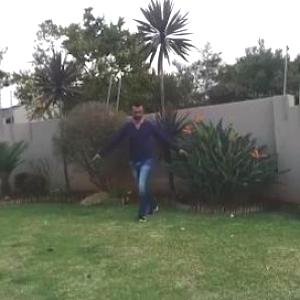land: (94, 89, 200, 224)
